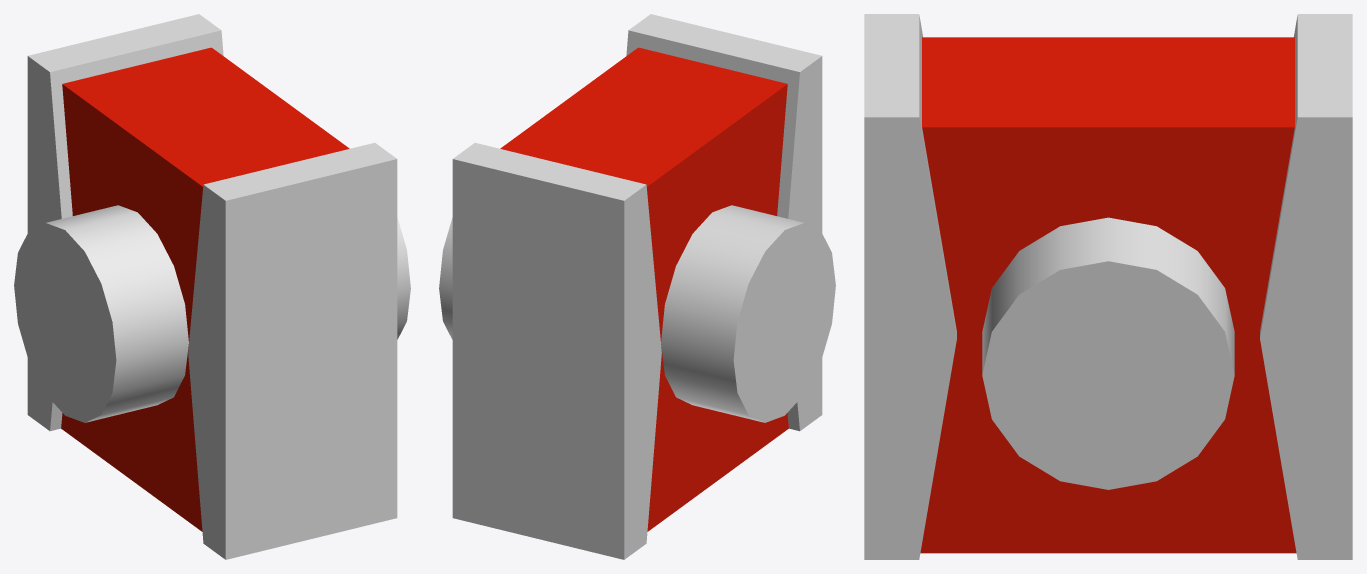
Rendered from Wall.fbx.
The picture shows the model from 3 angles, left to right: view 1: azimuth 30°, elevation 25°; view 2: azimuth 150°, elevation 25°; view 3: azimuth 270°, elevation 25°; orthographic projection. The views are drawn at different scales.
Parts seen in each view (by area): view 1: Cube, Cylinder; view 2: Cube, Cylinder; view 3: Cube, Cylinder.
Boxes of the visible parts, x1,y1,x2,y2 form: Cube: [27, 14, 397, 559]; Cylinder: [14, 205, 410, 422]; Cube: [452, 14, 822, 559]; Cylinder: [439, 205, 835, 422]; Cube: [864, 14, 1352, 559]; Cylinder: [982, 217, 1234, 489].
Bounding box in the file's own units: 172 × 200 × 200.
